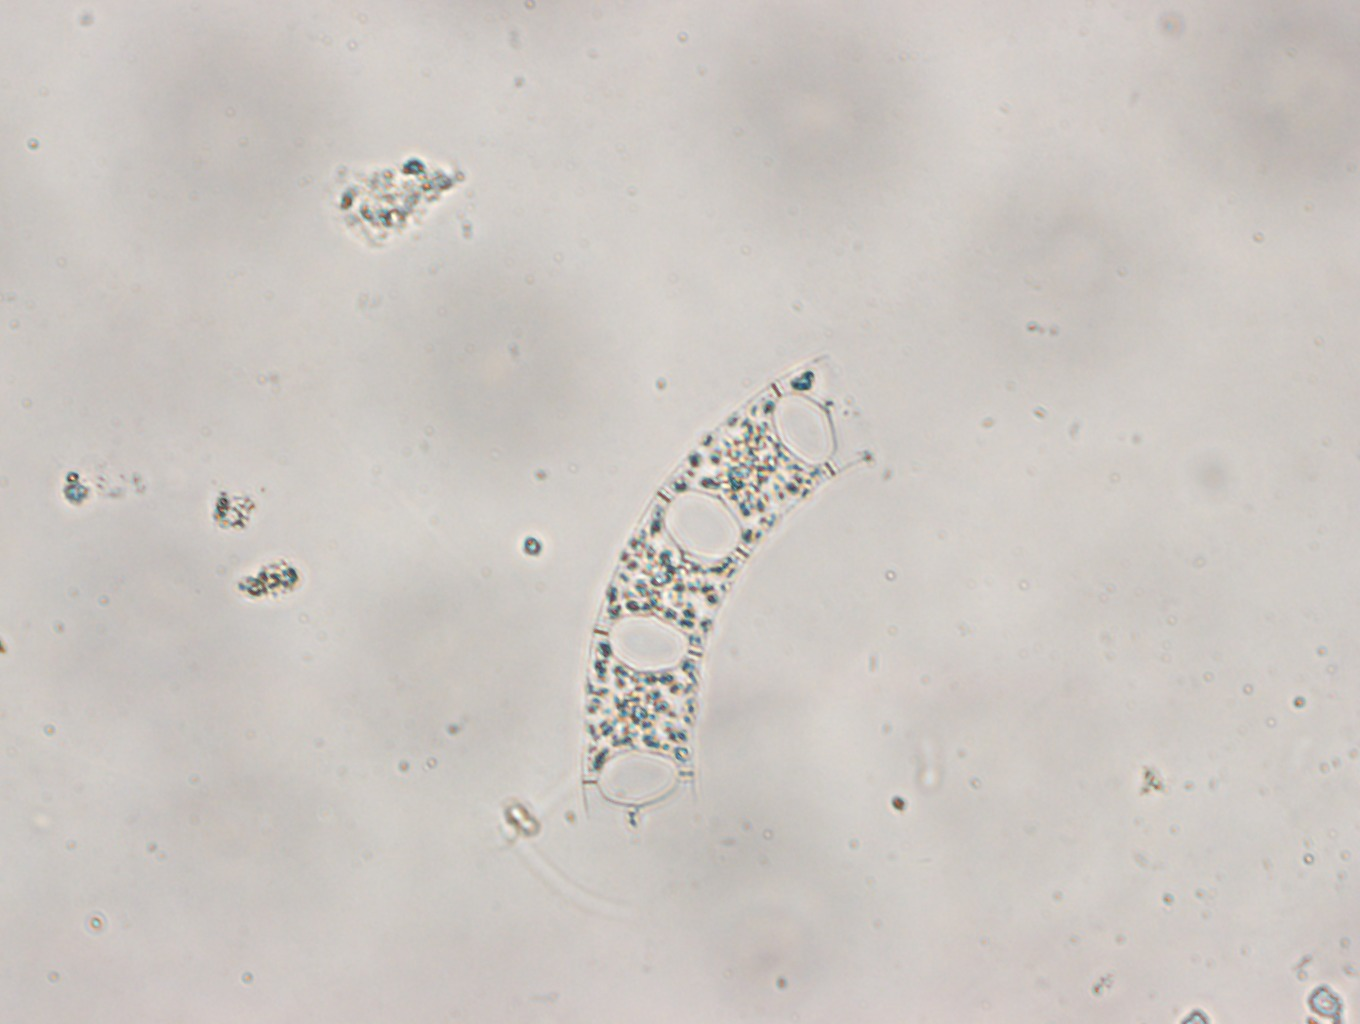eucampia: (581, 352, 877, 823)
